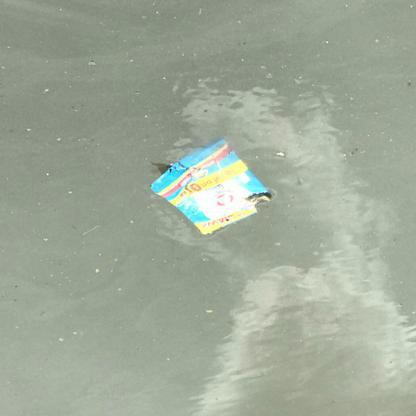Trash: (150, 137, 273, 236)
